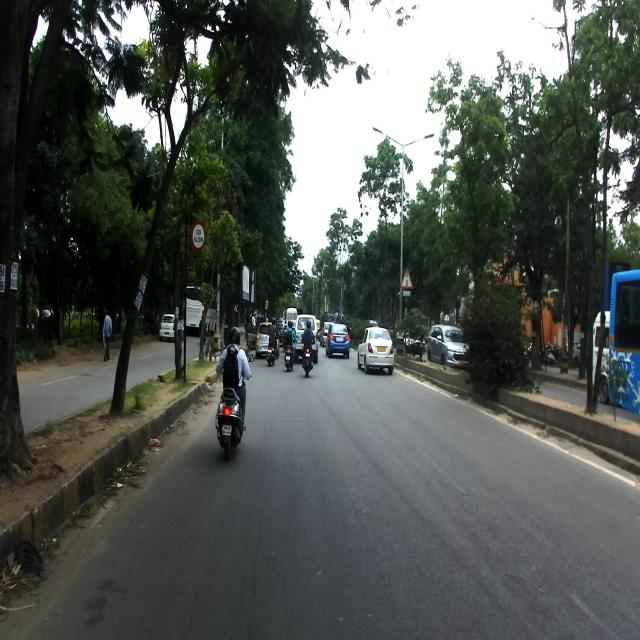car: (356, 326, 394, 376), (325, 321, 350, 357)
scooter: (214, 352, 247, 458)
